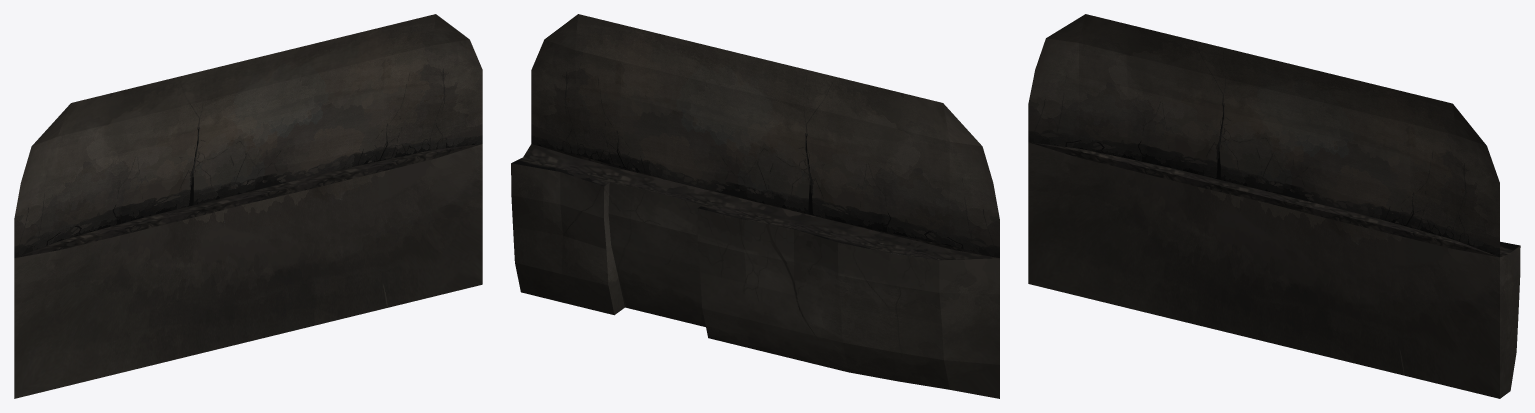
Rendered from kiret.obj.
The picture shows the model from 3 angles, left to right: view 1: azimuth 30°, elevation 25°; view 2: azimuth 150°, elevation 25°; view 3: azimuth 330°, elevation 25°; orthographic projection.
Visible parts, largest first — view 1: Plane; view 2: Plane; view 3: Plane.
Part boxes in pixels (x1,y1,x2,y2): Plane: (14,14,482,398); Plane: (511,14,999,398); Plane: (1028,14,1520,398).
Bounding box in the file's own units: 14.87 × 8.55 × 1.18.
1 material, 1 textured.
